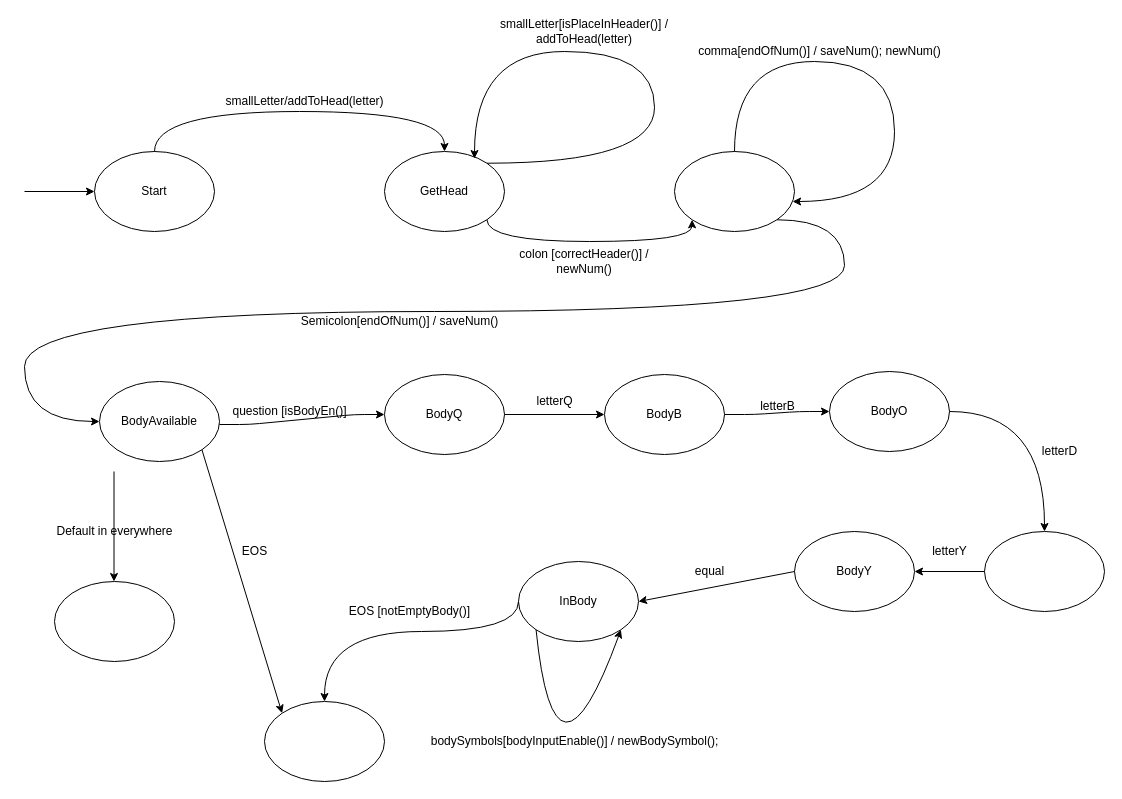
The diagram is 1122 pixels wide and 799 high, and some of its shapes have lost their labels. Here are the shapes that lost their labels. From the top down, the centre of each, then its label:
At (734,191): "InputNum".
At (1044,571): "BodyD".
At (114,621): "Error".
At (324,741): "Correct".
